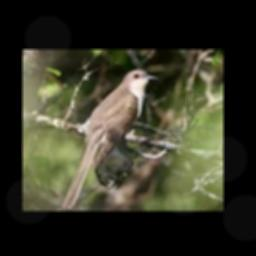Cuckoo: (63, 69, 157, 209)
